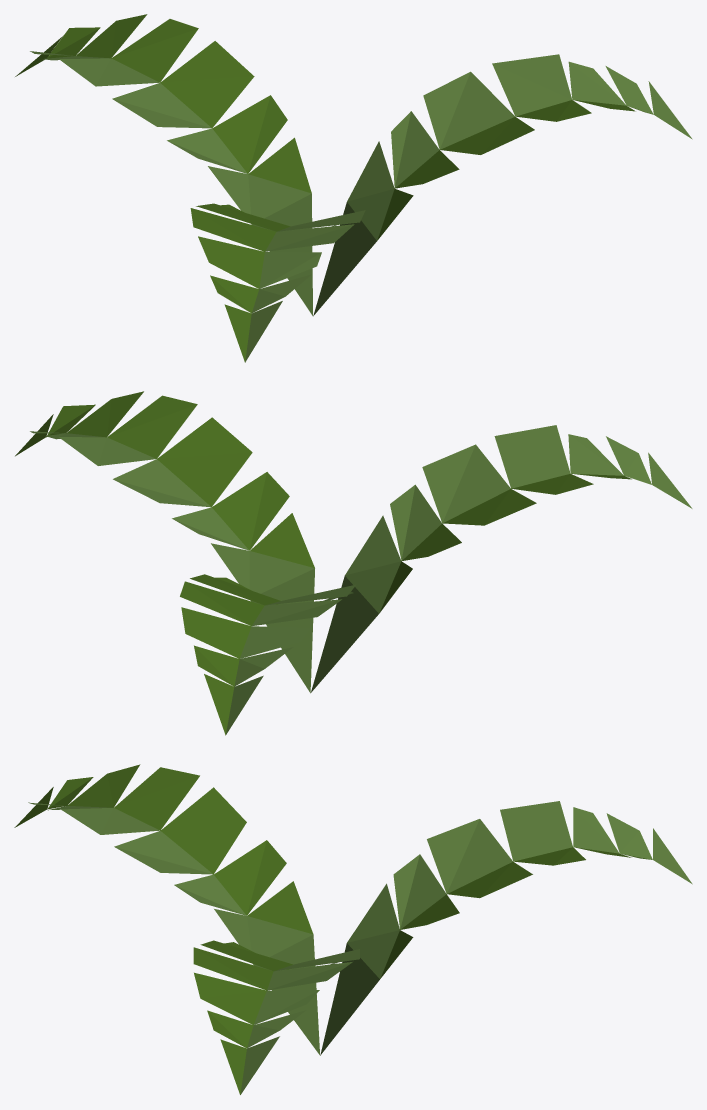
3 renders of one model, top to bottom at view 1: azimuth 30°, elevation 25°; view 2: azimuth 150°, elevation 25°; view 3: azimuth 270°, elevation 25°, orthographic. The views are drawn at different scales.
Bounding box in the file's own units: 95 × 32 × 102.
1 material, 1 textured.
